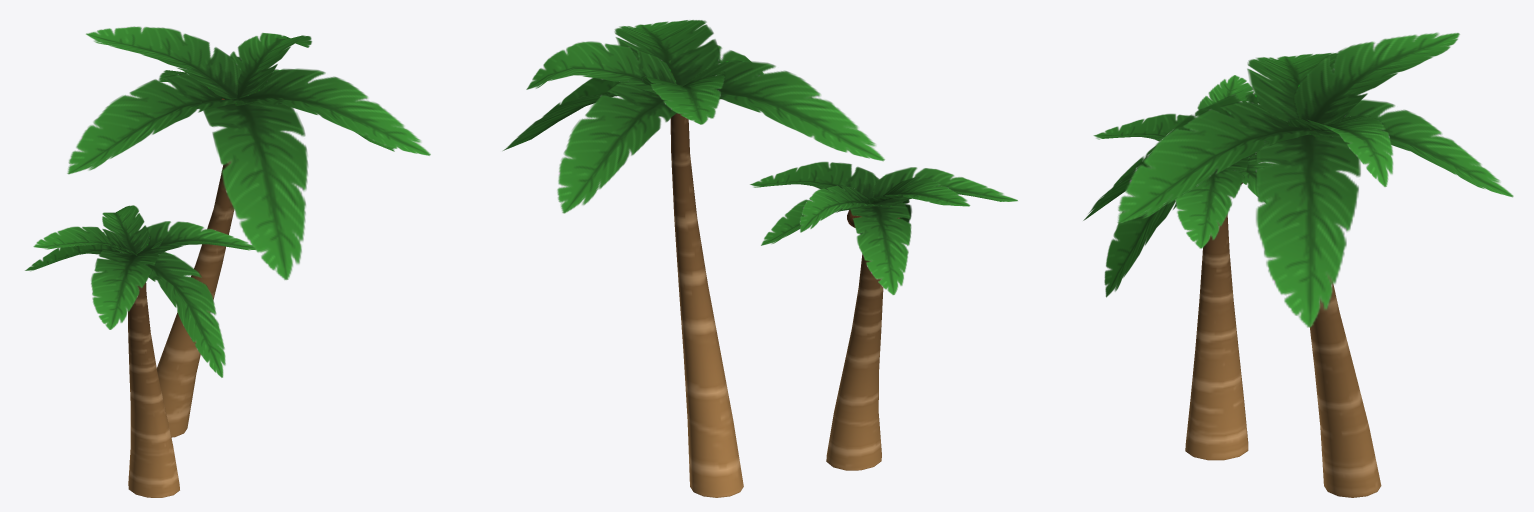
Rendered from palm-tree.glb.
3 views of the same model, side by side, from view 1: azimuth 30°, elevation 25°; view 2: azimuth 150°, elevation 25°; view 3: azimuth 270°, elevation 25° (orthographic). The views are drawn at different scales.
Visible parts, largest first — view 1: leave8_lambert1_0, tree1_lambert4_0; view 2: leave8_lambert1_0, tree1_lambert4_0; view 3: leave8_lambert1_0, tree1_lambert4_0.
Part boxes in pixels (x1=…): leave8_lambert1_0: x1=25, y1=26, x2=430, y2=377; tree1_lambert4_0: x1=128, y1=161, x2=234, y2=497; leave8_lambert1_0: x1=503, y1=20, x2=1017, y2=294; tree1_lambert4_0: x1=670, y1=113, x2=883, y2=497; leave8_lambert1_0: x1=1083, y1=32, x2=1513, y2=327; tree1_lambert4_0: x1=1185, y1=214, x2=1381, y2=497.
Bounding box in the file's own units: 15.2 × 13.64 × 12.93.
3 materials, 3 textured.
